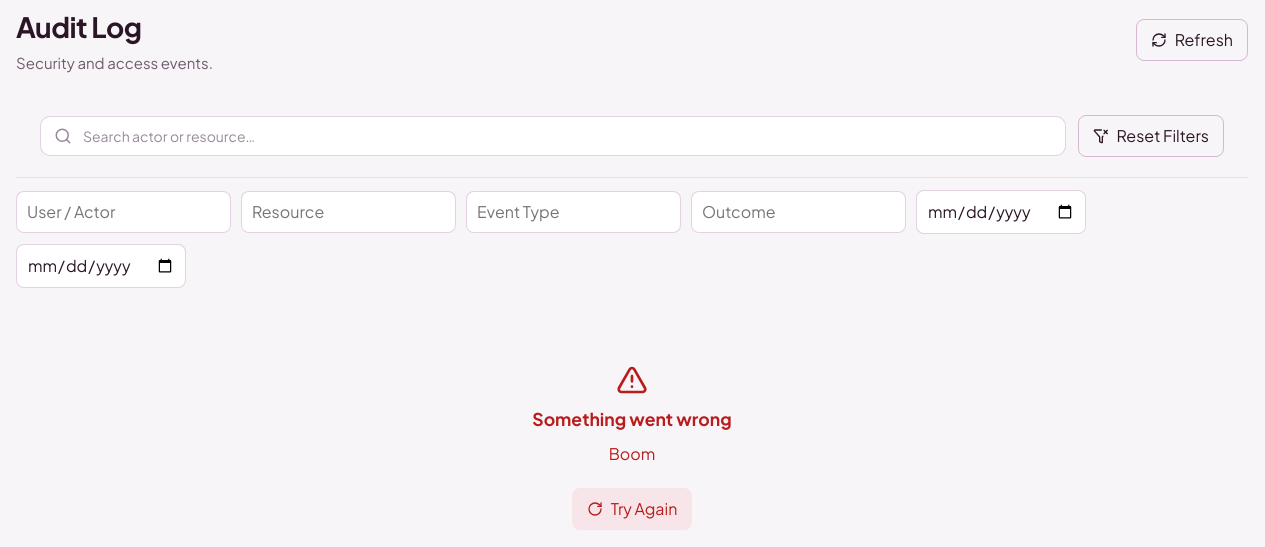
Scenario: AuditLog › retries after an API failure and recovers
Expected: the message "Something went wrong Boom Try Again" is shown, left=532, top=364, right=732, bottom=530
What coordinates should you click on to do the following:
click the button "Try Again"
I would click on:
 (632, 509)
Its box is left=572, top=488, right=692, bottom=530.
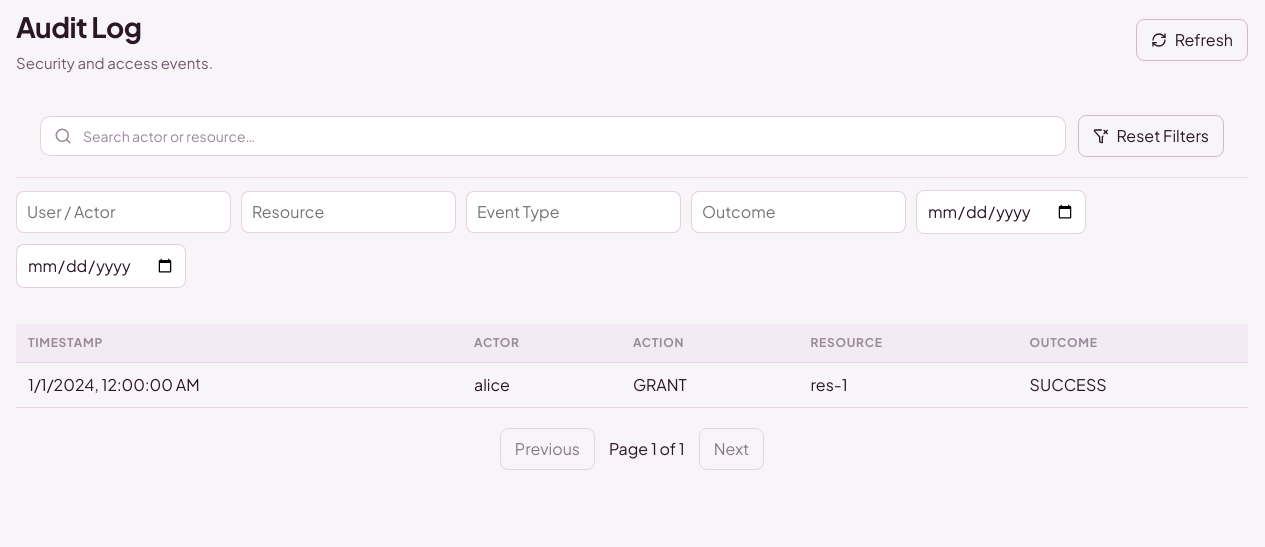
Expected: the text "alice" is shown, left=462, top=362, right=621, bottom=407
